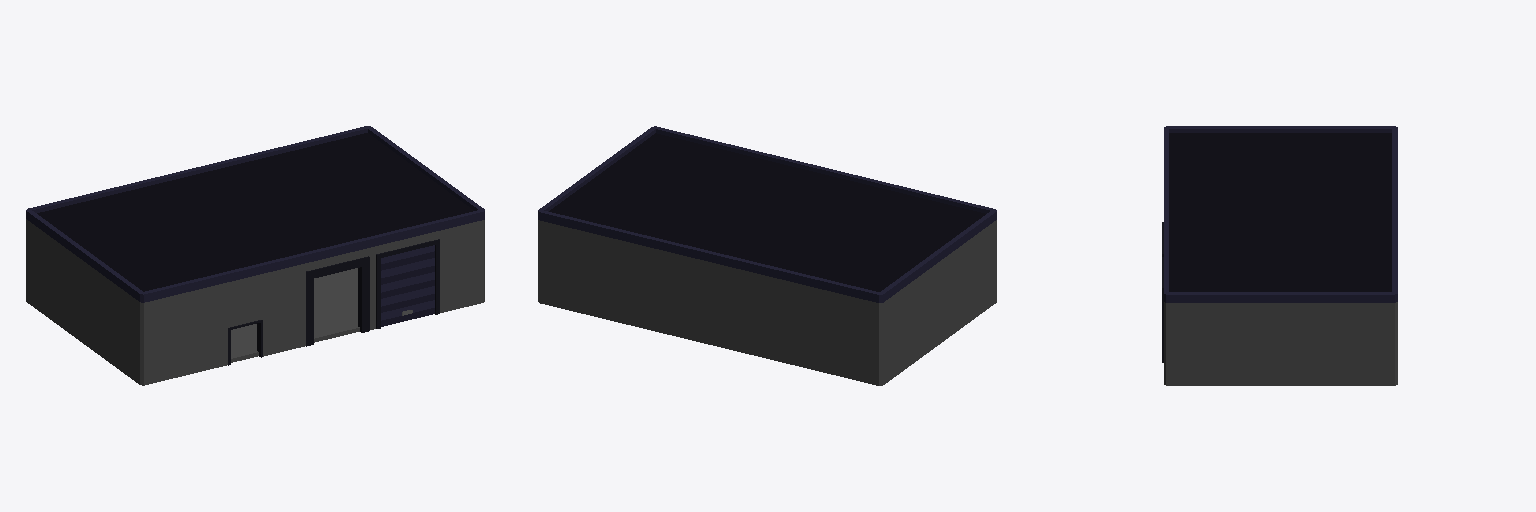
The model's file is workshop2.obj.
The picture shows the model from 3 angles: view 1: azimuth 30°, elevation 25°; view 2: azimuth 150°, elevation 25°; view 3: azimuth 270°, elevation 25°; orthographic projection.
Visible parts, largest first — view 1: mergedBlocks; view 2: mergedBlocks; view 3: mergedBlocks.
Boxes of the visible parts, x1,y1,x2,y2 form: mergedBlocks: [26, 126, 484, 385]; mergedBlocks: [538, 126, 996, 385]; mergedBlocks: [1162, 126, 1397, 385].
Size of the model in its own units: 8.72 by 2.2 by 5.16.